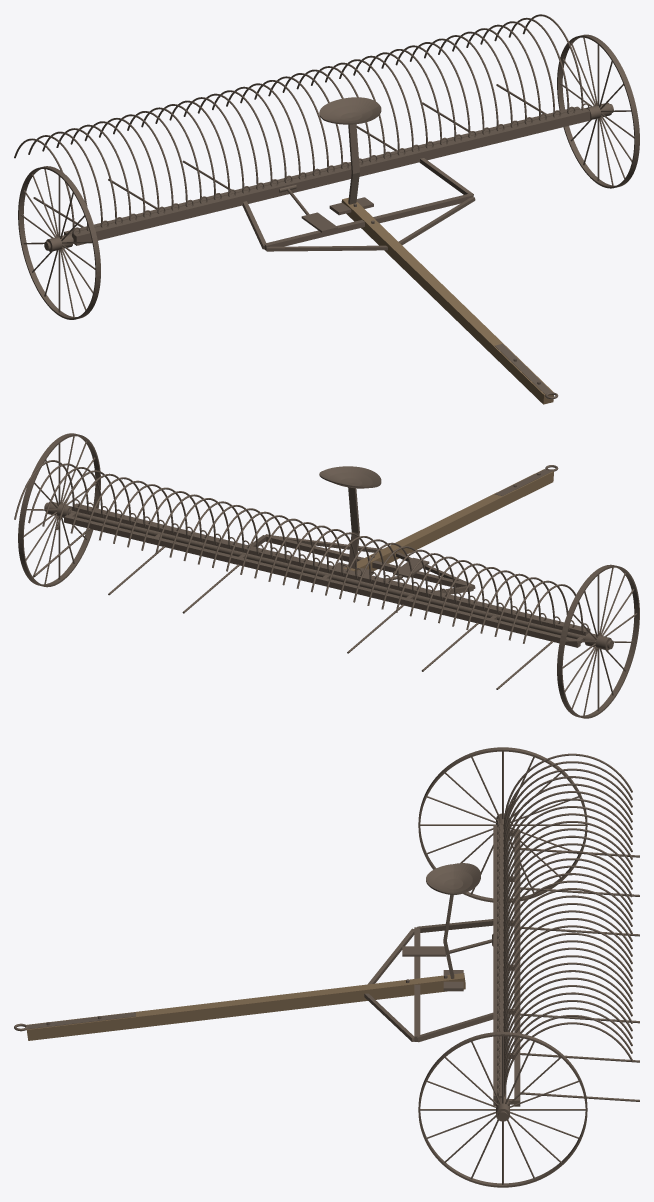
File: NEW456_hay_rake_LOD0.glb
3 renders of one model, top to bottom at view 1: azimuth 30°, elevation 25°; view 2: azimuth 150°, elevation 25°; view 3: azimuth 270°, elevation 25°, orthographic. The views are drawn at different scales.
Visible parts, largest first — view 1: rake_head_front, wood_drawbar, wheel_L_rim, wheel_R_rim, rake_head_rear, front_crossbar, seat_pan, drawbar_brace_-1; view 2: rake_head_rear, rake_head_front, wood_drawbar, fixed_axle, wheel_L_rim, wheel_R_rim, front_crossbar, seat_pan; view 3: wood_drawbar, rake_head_front, wheel_R_rim, wheel_L_rim, seat_pan, rake_head_rear, front_crossbar.
Boxes of the visible parts, x1,y1,x2,y2 form: rake_head_front: [72, 108, 590, 245]; wood_drawbar: [341, 197, 553, 404]; wheel_L_rim: [18, 166, 100, 319]; wheel_R_rim: [557, 34, 639, 188]; rake_head_rear: [64, 106, 580, 235]; front_crossbar: [264, 194, 473, 250]; seat_pan: [319, 97, 381, 124]; drawbar_brace_-1: [266, 245, 387, 251]; rake_head_rear: [64, 515, 580, 647]; rake_head_front: [72, 503, 590, 635]; wood_drawbar: [343, 469, 553, 571]; fixed_axle: [70, 510, 608, 645]; wheel_L_rim: [557, 564, 639, 718]; wheel_R_rim: [18, 433, 100, 587]; front_crossbar: [264, 534, 473, 591]; seat_pan: [319, 466, 381, 488]; wood_drawbar: [26, 973, 465, 1040]; rake_head_front: [493, 824, 503, 1105]; wheel_R_rim: [418, 1032, 587, 1187]; wheel_L_rim: [418, 747, 587, 902]; seat_pan: [426, 863, 480, 895]; rake_head_rear: [514, 829, 520, 1106]; front_crossbar: [414, 927, 420, 1041].
Size of the model in its own units: 3.71 by 0.98 by 3.29.
